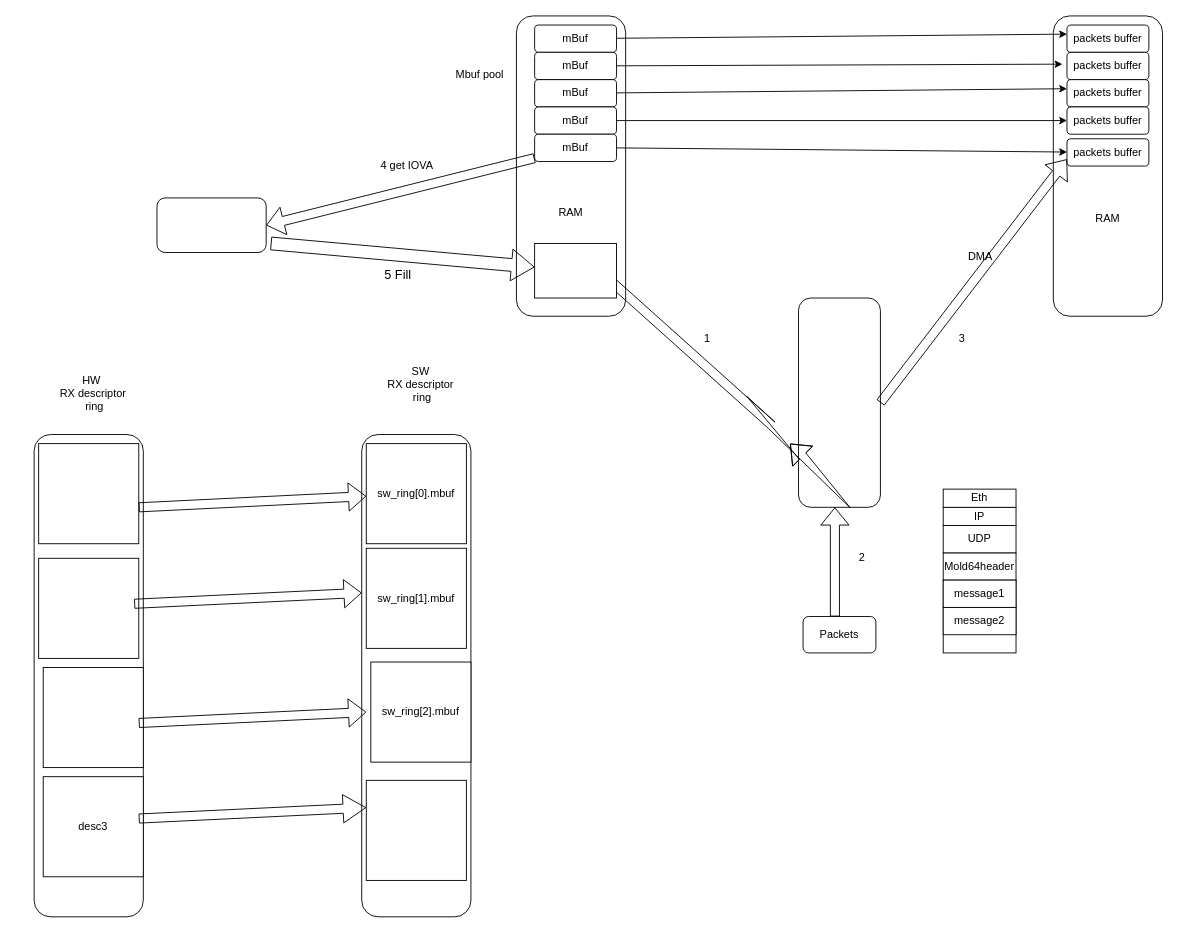
Image size: 1178x933. Some labels were removed from this diagram. The box of each missing label's shape, as (x1, y1, x2, y2) in pixels:
desc0: (38, 443, 139, 544)
desc1: (38, 557, 139, 658)
desc2: (42, 667, 143, 768)
NIC: (798, 297, 880, 507)
PMD: (156, 197, 266, 253)
Rx descriptor r ing: (534, 243, 617, 298)
sw_ring[3].mbuf: (365, 779, 466, 880)
